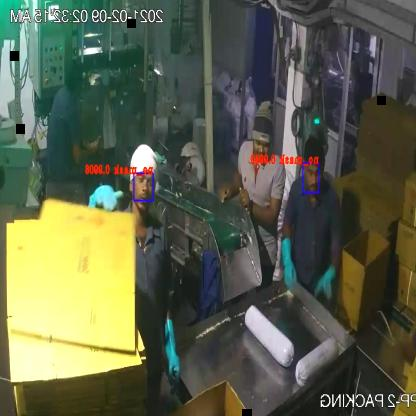glove: (160, 308, 192, 394), (309, 238, 345, 313), (86, 178, 126, 215), (277, 238, 302, 294)
no_glove: (233, 187, 288, 226), (67, 129, 106, 166), (214, 168, 246, 203)
